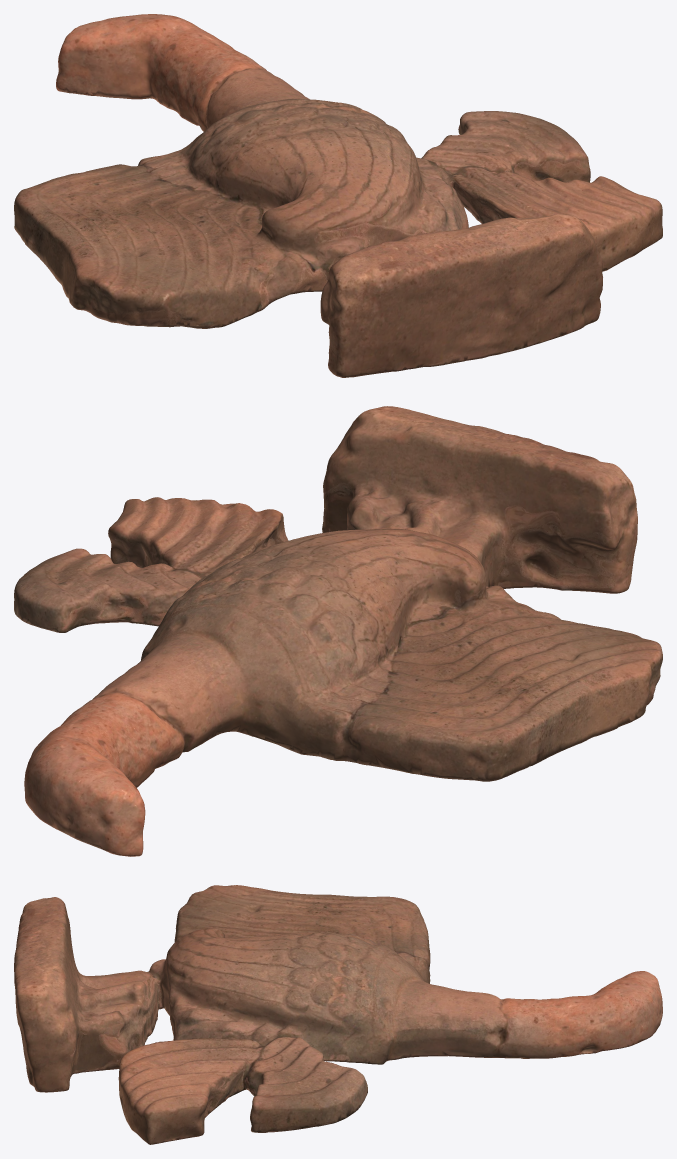
File: MysonMuseum_chimhamsa_final.glb
3 views of the same model, one above another, from view 1: azimuth 30°, elevation 25°; view 2: azimuth 150°, elevation 25°; view 3: azimuth 270°, elevation 25° (orthographic). The views are drawn at different scales.
Bounding box in the file's own units: 0.5038 × 0.109 × 0.6334.
1 material, 1 textured.
